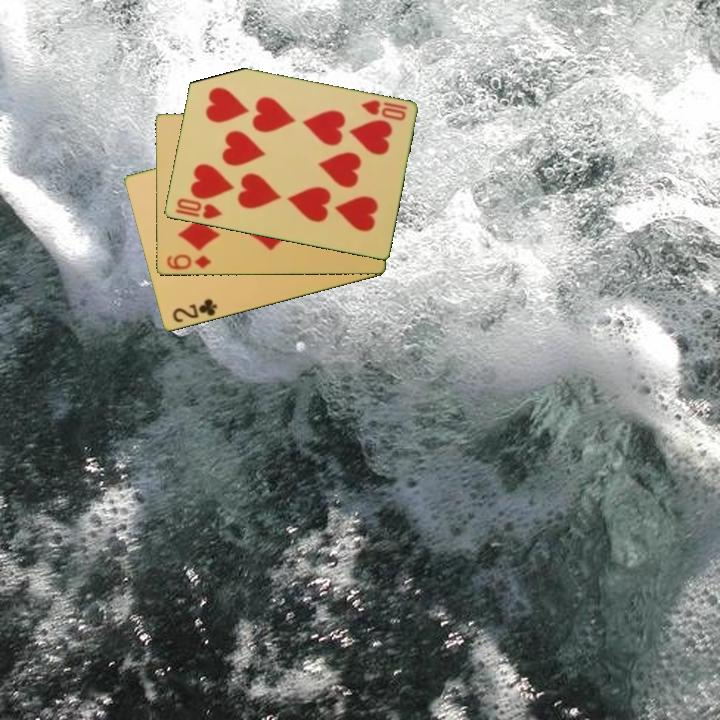10h: (172, 195, 225, 222), (357, 97, 410, 124)
2c: (169, 295, 220, 326)
6d: (163, 251, 214, 273)
